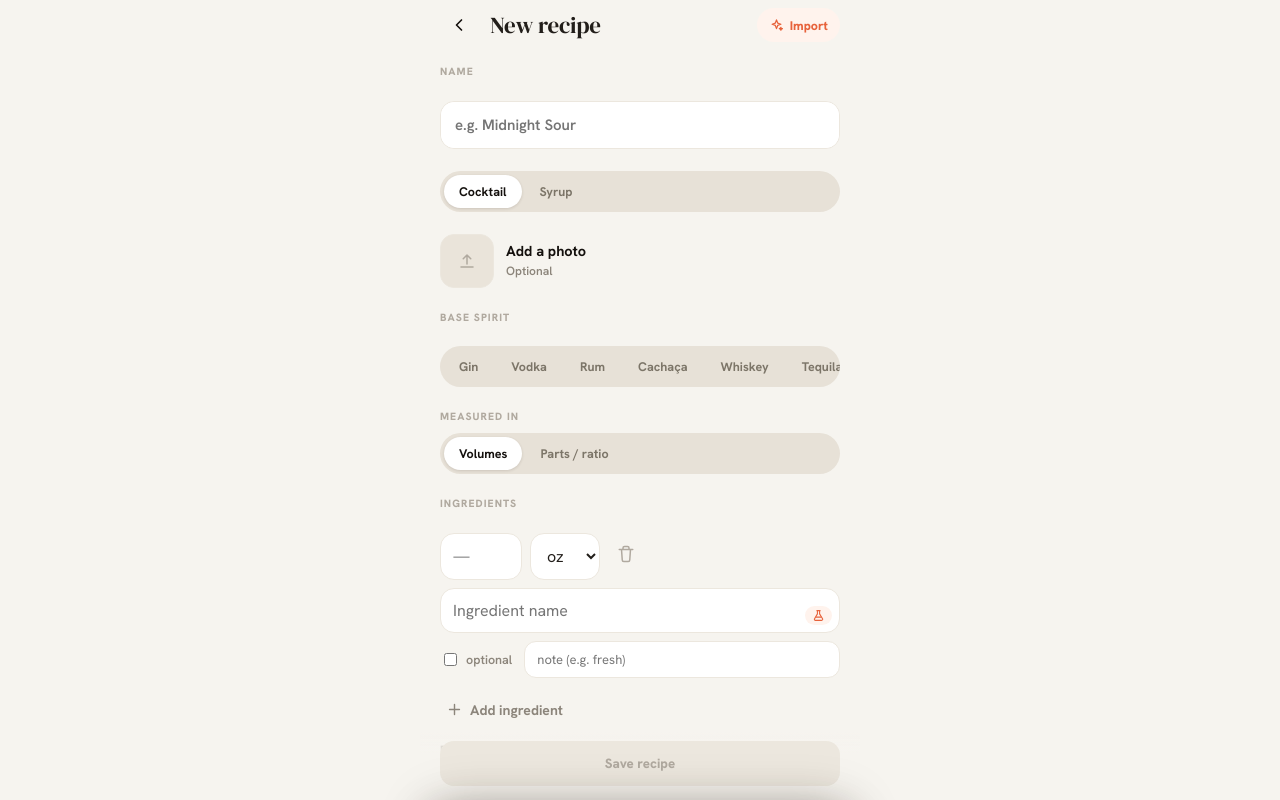
Test: generate a photo (photo sheet) › generates for an image-less cocktail and attaches the pool ref
Step 1. Type "Daiquiri" into the field with placeholder "e.g. Midnight Sour" → [640, 125], box [441,102,839,148]
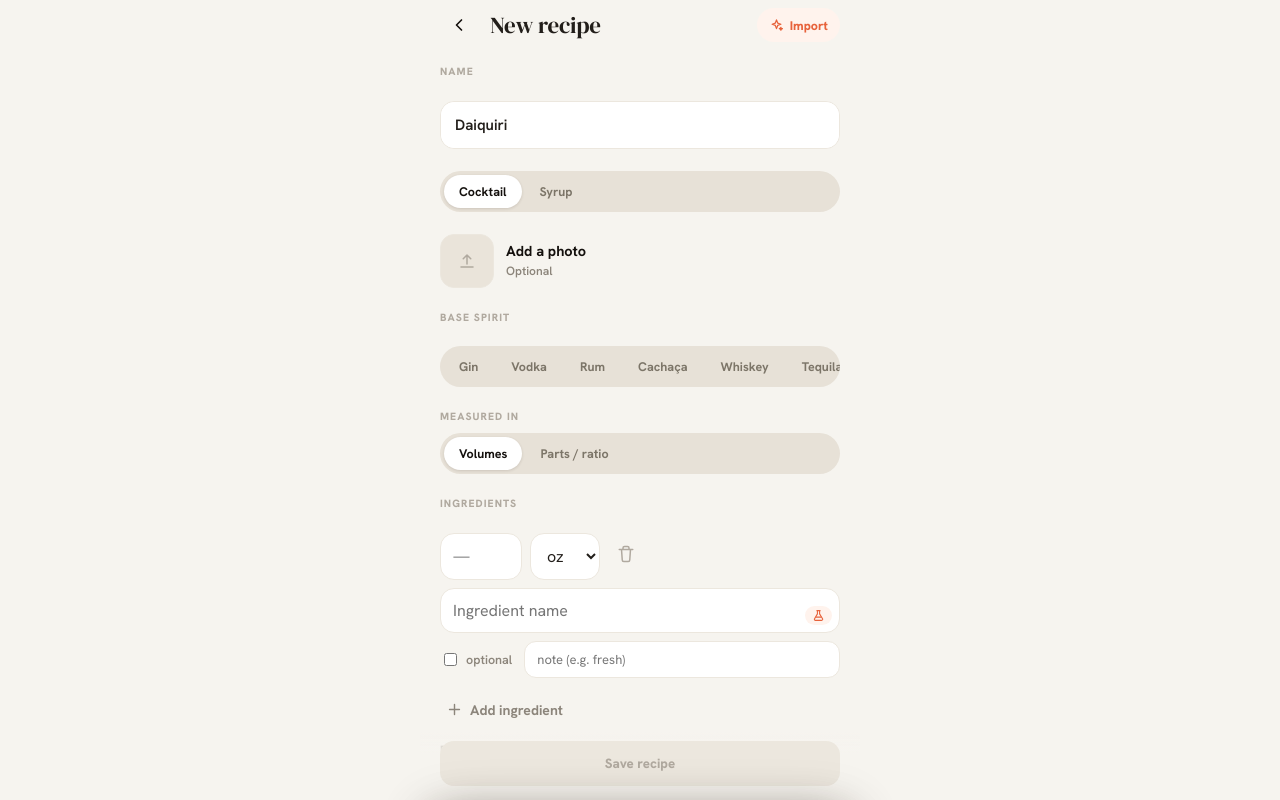
Step 2. Click the button named "add a photo" → [467, 261], box [440,234,494,288]
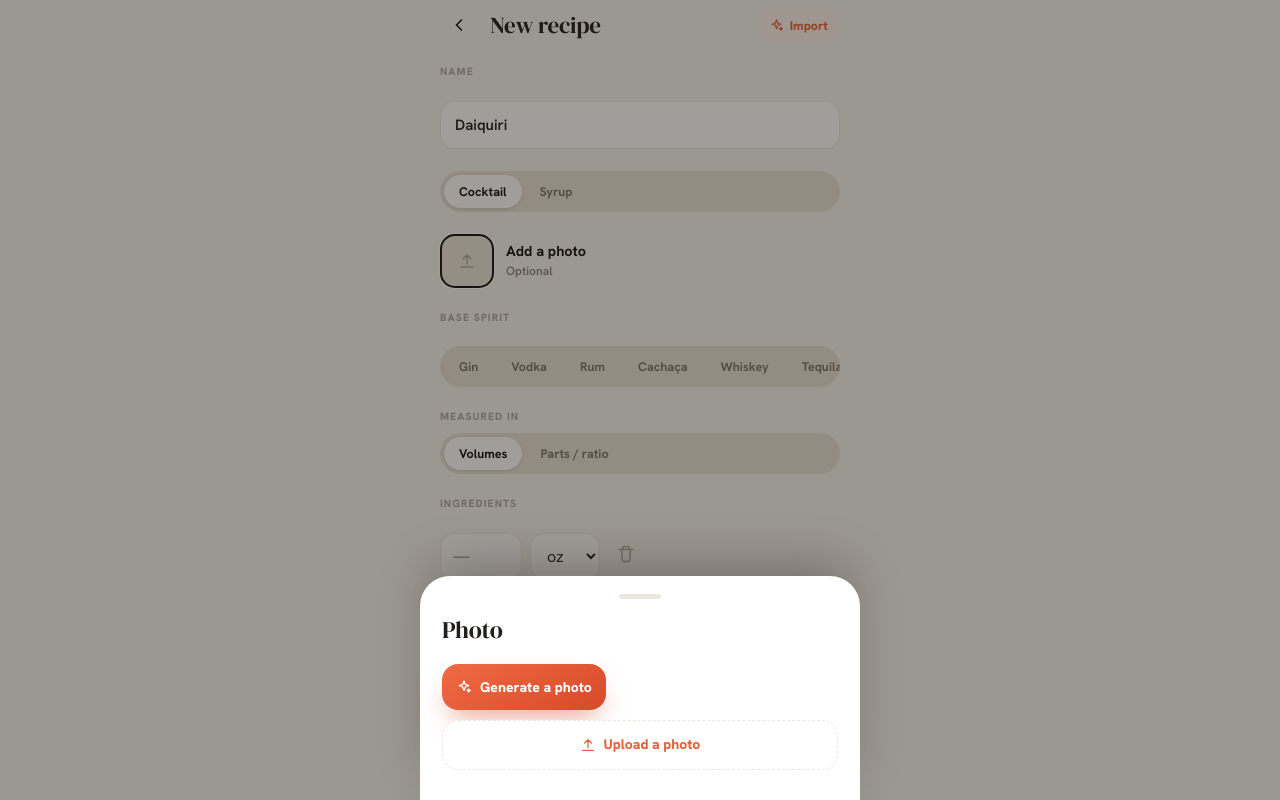
Step 3. Click the button "Generate a photo" → [524, 687], box [442,664,606,710]
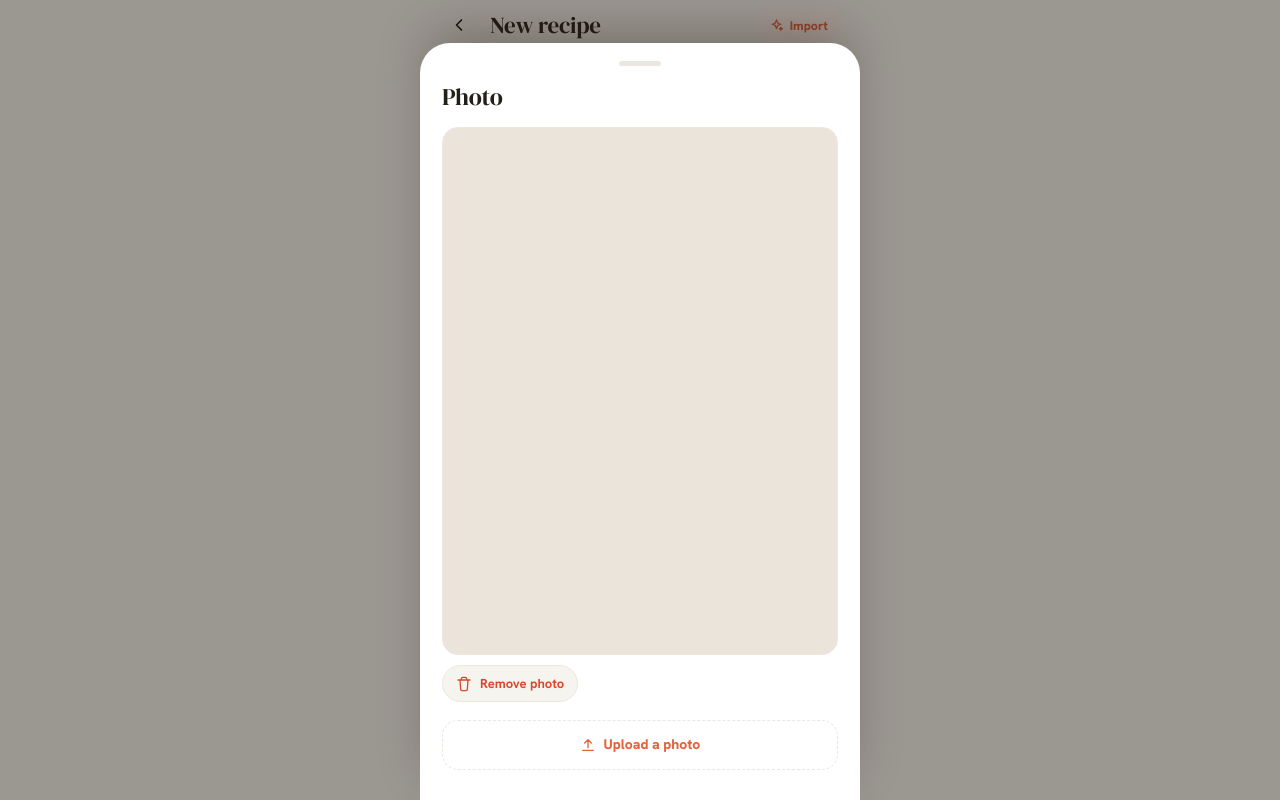
Expected: the button named "remove photo" is shown, [806,244,840,278]
Expected: the button "Generate a photo" is gone
